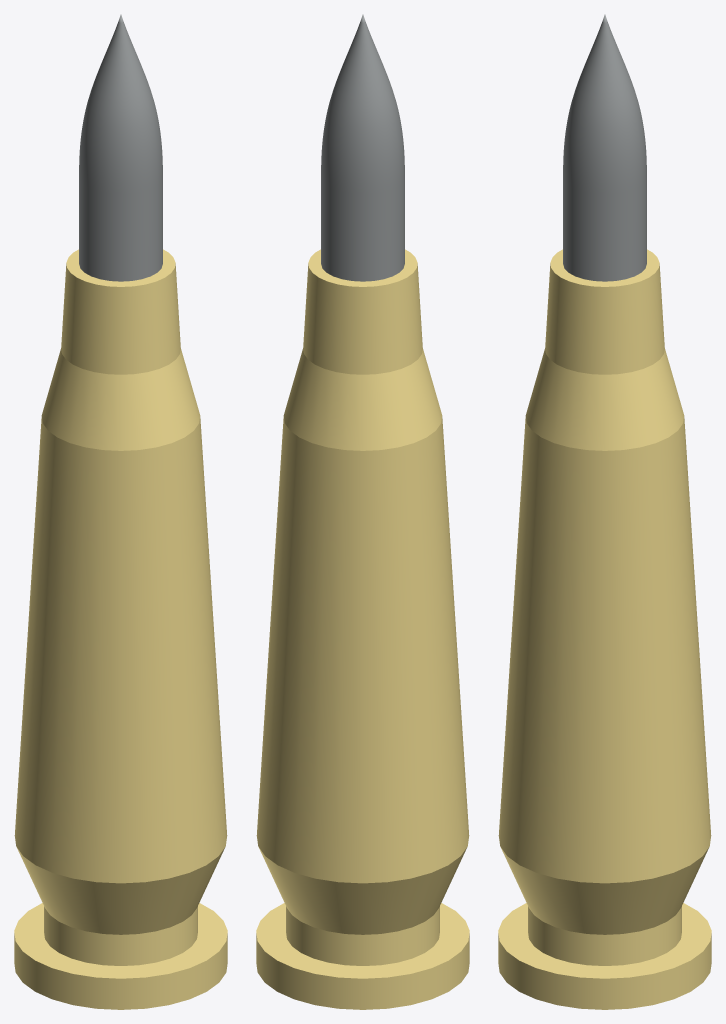
3 renders of one model, left to right at view 1: azimuth 30°, elevation 25°; view 2: azimuth 150°, elevation 25°; view 3: azimuth 270°, elevation 25°, orthographic.
Parts seen in each view (by area): view 1: cartridge; view 2: cartridge; view 3: cartridge.
Boxes of the visible parts, x1=… form: cartridge: x1=14, y1=14, x2=227, y2=1009; cartridge: x1=256, y1=14, x2=469, y2=1009; cartridge: x1=498, y1=14, x2=711, y2=1009.
Size of the model in its own units: 0.0142 by 0.07 by 0.0143.
